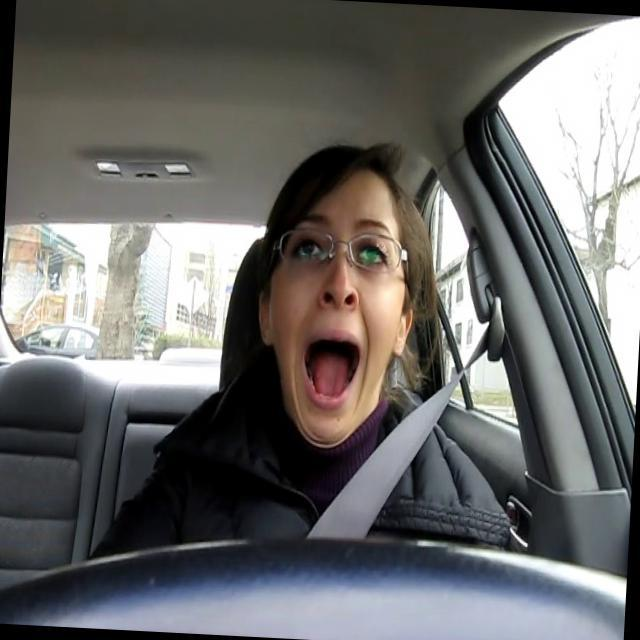Yawning: (297, 324, 364, 410)
